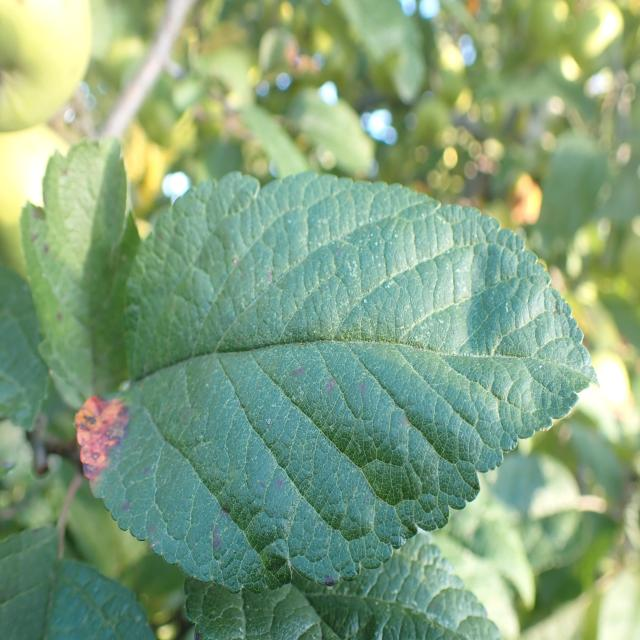rust: (72, 170, 600, 594)
